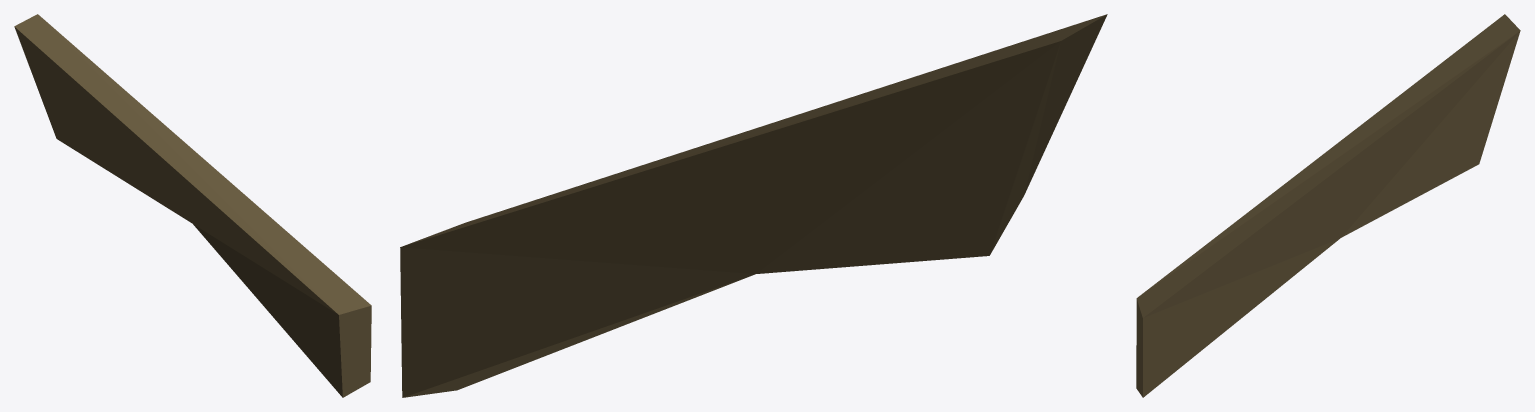
Rendered from ant-tibia-strip-front-right.dae.
The picture shows the model from 3 angles, left to right: view 1: azimuth 30°, elevation 25°; view 2: azimuth 210°, elevation 25°; view 3: azimuth 270°, elevation 25°; orthographic projection. The views are drawn at different scales.
Parts seen in each view (by area): view 1: ant-tibia-strip-front-right; view 2: ant-tibia-strip-front-right; view 3: ant-tibia-strip-front-right.
Boxes of the visible parts, <box> form: ant-tibia-strip-front-right: <box>14,14,371,397</box>; ant-tibia-strip-front-right: <box>400,14,1107,397</box>; ant-tibia-strip-front-right: <box>1136,14,1520,397</box>.
Size of the model in its own units: 0.3366 by 0.5738 by 0.487.
